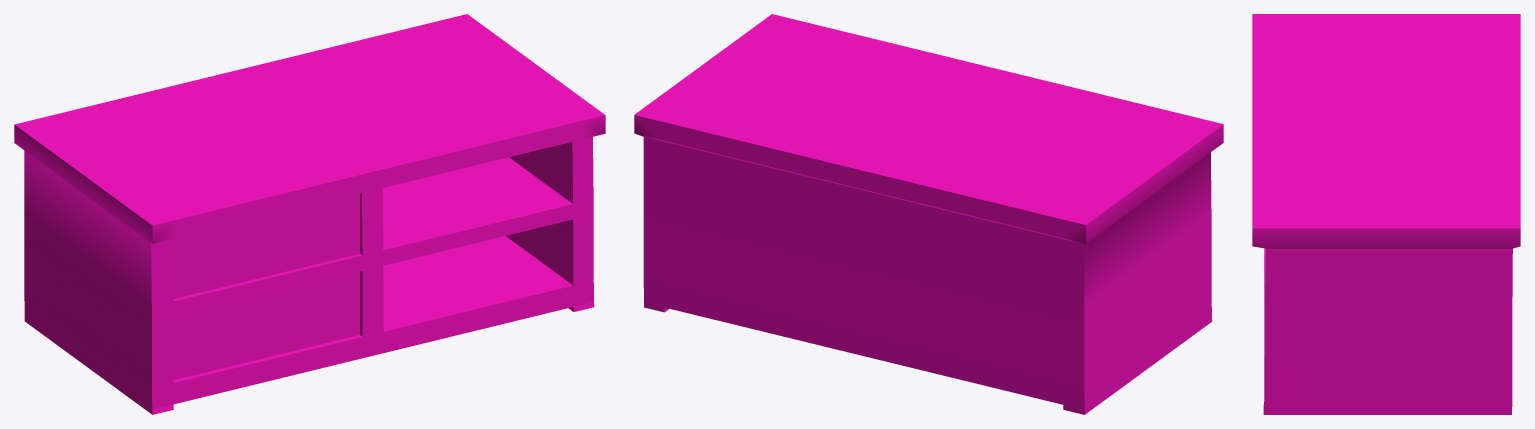
Rendered from study_tv_stand_1_meshCollider.fbx.
3 renders of one model, left to right at view 1: azimuth 30°, elevation 25°; view 2: azimuth 150°, elevation 25°; view 3: azimuth 270°, elevation 25°, orthographic. The views are drawn at different scales.
Parts seen in each view (by area): view 1: study_tv_stand_1_meshCollider, study_tv_stand_drawer_2_meshCollider, study_tv_stand_drawer_1_meshCollider; view 2: study_tv_stand_1_meshCollider; view 3: study_tv_stand_1_meshCollider.
Boxes of the visible parts, x1,y1,x2,y2 form: study_tv_stand_1_meshCollider: [14, 14, 605, 414]; study_tv_stand_drawer_2_meshCollider: [173, 271, 359, 380]; study_tv_stand_drawer_1_meshCollider: [172, 193, 359, 298]; study_tv_stand_1_meshCollider: [634, 14, 1223, 414]; study_tv_stand_1_meshCollider: [1252, 14, 1520, 414].
Size of the model in its own units: 87.02 by 35.8 by 45.99.
